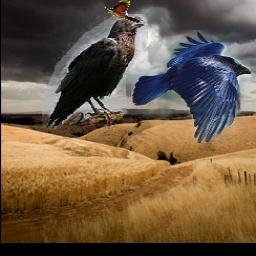Crow: (131, 31, 251, 144), (43, 15, 149, 130)
Cuckoo: (105, 0, 142, 24)
